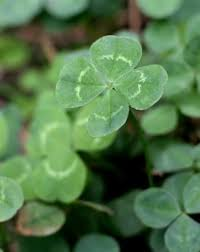4-clover: (59, 37, 168, 136)
